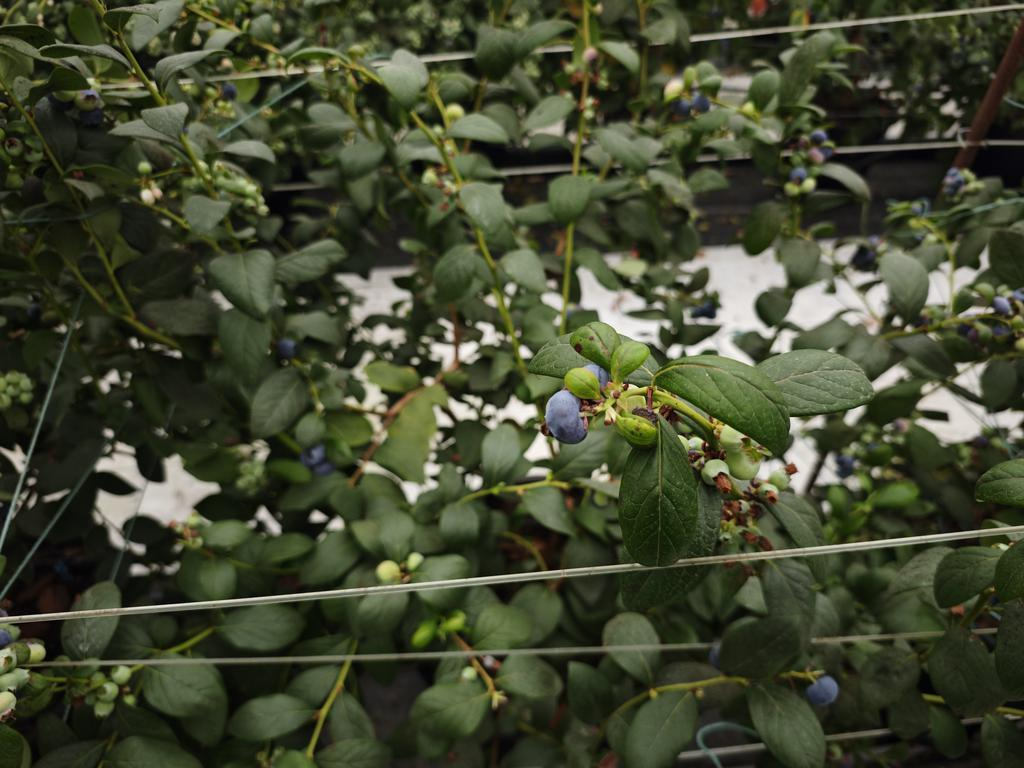RipeBlueBerry: (548, 384, 593, 453), (813, 674, 857, 708)
